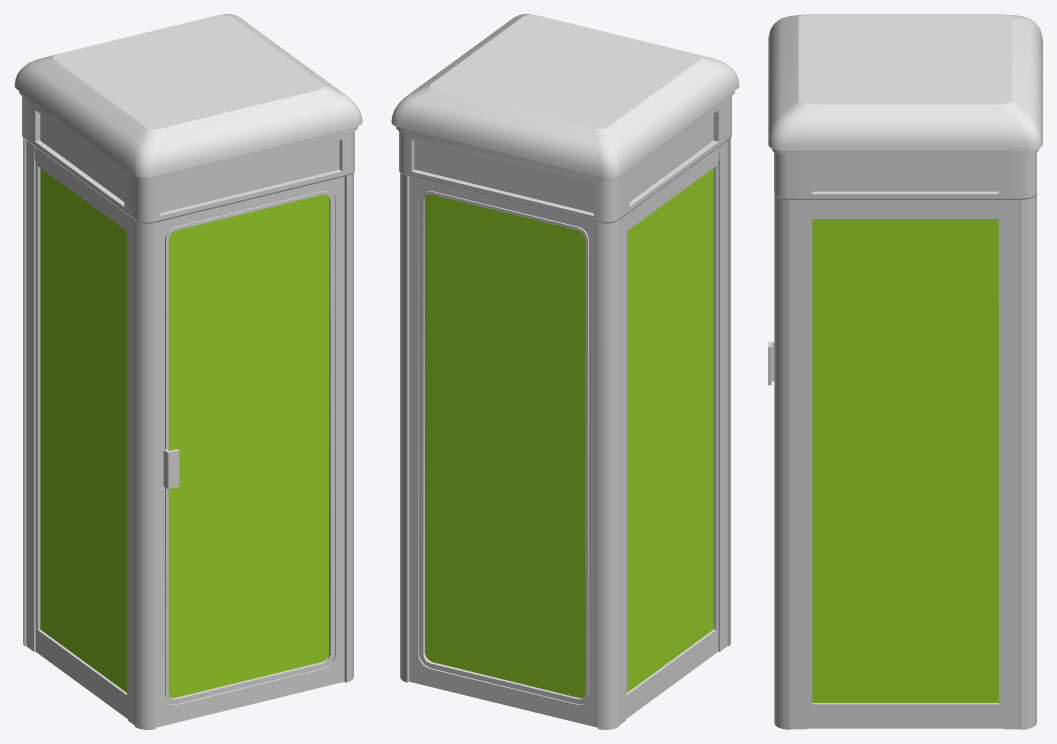
File: pecera_st.fbx
The picture shows the model from 3 angles, left to right: view 1: azimuth 30°, elevation 25°; view 2: azimuth 150°, elevation 25°; view 3: azimuth 270°, elevation 25°; orthographic projection. The views are drawn at different scales.
Visible parts, largest first — view 1: pecera.002, pecera.001; view 2: pecera.002, pecera.001; view 3: pecera.001, pecera.002.
Boxes of the visible parts, bbox=[...] form: pecera.002: bbox=[40, 168, 328, 697]; pecera.001: bbox=[14, 14, 362, 729]; pecera.002: bbox=[425, 168, 713, 697]; pecera.001: bbox=[391, 14, 739, 729]; pecera.001: bbox=[768, 14, 1042, 729]; pecera.002: bbox=[812, 219, 998, 702].
Bounding box in the file's own units: 96.37 × 238 × 96.38.
